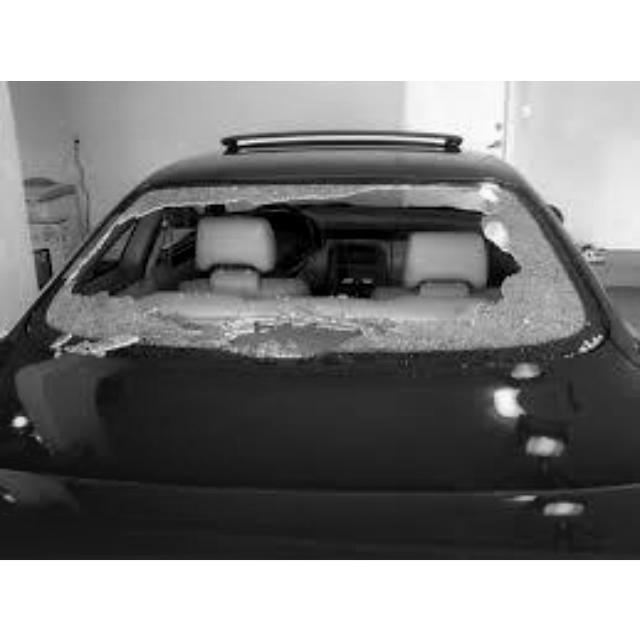Rear-windscreen-Damage: (18, 167, 611, 386)
